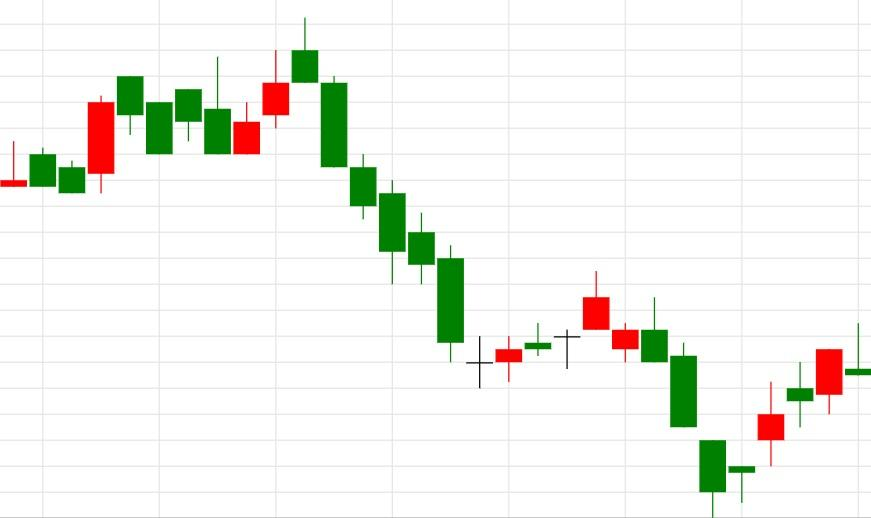three_black_crows_fall: (203, 17, 377, 220)
